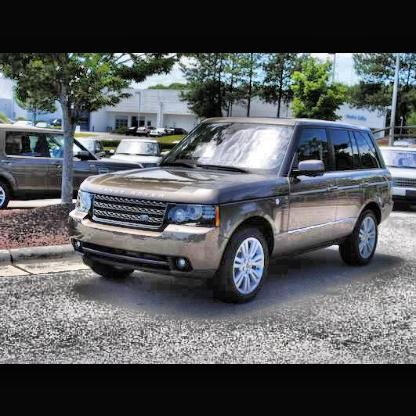Land Rover Range Rover SUV 2012: (66, 116, 398, 304)
